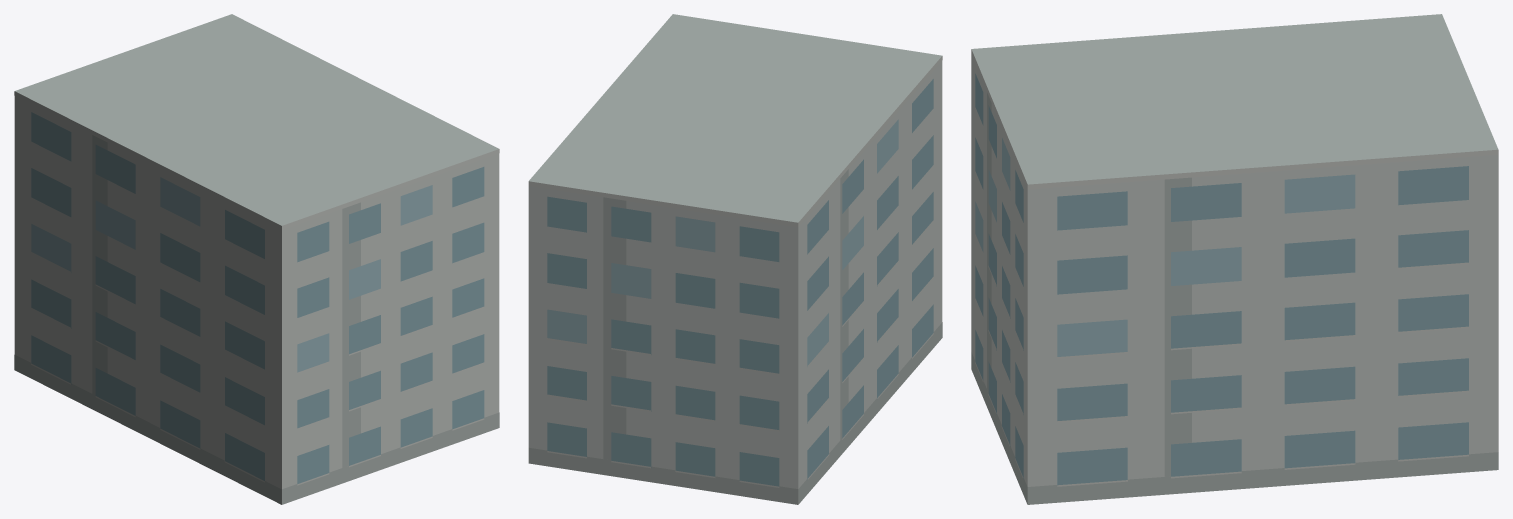
File: residential-6e4b46ec-c14d-483d-854e-59b0af0154c2.glb
The picture shows the model from 3 angles, left to right: view 1: azimuth 30°, elevation 25°; view 2: azimuth 150°, elevation 25°; view 3: azimuth 270°, elevation 25°; orthographic projection. The views are drawn at different scales.
Visible parts, largest first — view 1: residential-6e4b46ec-c14d-483d-854e-59b0af0154c2.tmp; view 2: residential-6e4b46ec-c14d-483d-854e-59b0af0154c2.tmp; view 3: residential-6e4b46ec-c14d-483d-854e-59b0af0154c2.tmp.
Boxes of the visible parts, box(x1,y1,x2,y2) form: residential-6e4b46ec-c14d-483d-854e-59b0af0154c2.tmp: box(14, 14, 499, 504); residential-6e4b46ec-c14d-483d-854e-59b0af0154c2.tmp: box(528, 14, 942, 504); residential-6e4b46ec-c14d-483d-854e-59b0af0154c2.tmp: box(971, 14, 1498, 504).
Bounding box in the file's own units: 17.43 × 15.25 × 22.75.
